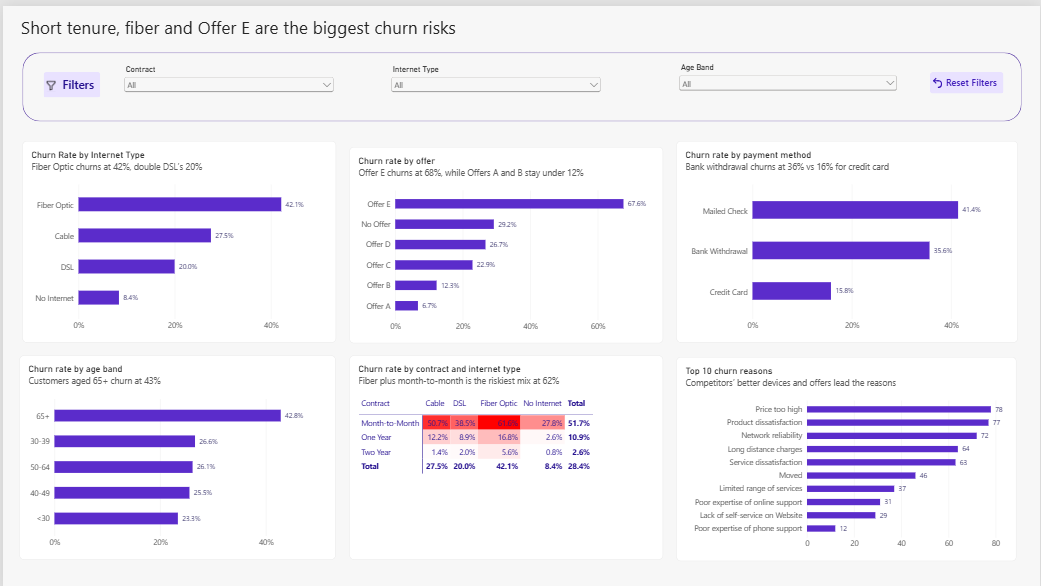

The page's visual inventory and layout, read from the dashboard file:
{"tool":"powerbi","page":{"name":"Page 2","canvas":[1920,1080],"ordinal":1},"visuals":[{"type":"shape","box":[36.5,85.1,1850.1,127.6],"z":0},{"type":"slicer","fields":{"Values":["churn.Contract"]},"box":[218.7,109.4,398,88.1],"z":1000},{"type":"slicer","fields":{"Values":["churn.Internet Type"]},"box":[713.9,109.4,398,69.9],"z":2000},{"type":"slicer","fields":{"Values":["churn.Age Band"]},"box":[1248.6,106.3,413.2,72.9],"z":3000},{"type":"actionButton","box":[1716,123,136,40],"z":4000},{"type":"actionButton","box":[75,122.5,105.3,47.4],"z":5000},{"type":"textbox","box":[32.5,17.5,1037.5,67.5],"z":6000},{"type":"clusteredBarChart","title":"Churn Rate by Internet Type","fields":{"Category":["churn.Internet Type"],"Y":["churn.Churn Rate %"]},"box":[36.6,251.3,580.7,373.3],"z":7000},{"type":"clusteredBarChart","title":"Churn rate by offer","fields":{"Category":["churn.Offer"],"Y":["churn.Churn Rate %"]},"box":[641.7,261.1,580.7,363.5],"z":8000},{"type":"clusteredBarChart","title":"Churn rate by payment method","fields":{"Category":["churn.Payment Method"],"Y":["churn.Churn Rate %"]},"box":[1246.7,251.3,631.9,373.3],"z":9000},{"type":"clusteredBarChart","title":"Churn rate by age band","fields":{"Category":["churn.Age Band"],"Y":["churn.Churn Rate %"]},"box":[31.7,646.6,585.6,378.2],"z":10000},{"type":"pivotTable","title":"Churn rate by contract and internet type","fields":{"Columns":["churn.Internet Type"],"Rows":["churn.Contract"],"Values":["churn.Churn Rate %"]},"box":[641.7,646.6,580.7,378.2],"z":11000},{"type":"clusteredBarChart","title":"Top 10 churn reasons","fields":{"Category":["churn.Churn Reason"],"Y":["churn.Churned Customers"]},"box":[1246.7,649,629.5,378.2],"z":12000}]}

Visuals, with their boxes in screenshot pixels (x1, y1, x2, y2), scaled from the page's 1920x1080 canvas onto the 1041x586 screenshot:
shape: [20, 46, 1023, 115]
slicer - churn.Contract: [119, 59, 334, 107]
slicer - churn.Internet Type: [387, 59, 603, 97]
slicer - churn.Age Band: [677, 58, 901, 97]
actionButton: [930, 67, 1004, 88]
actionButton: [41, 66, 98, 92]
textbox: [18, 9, 580, 46]
"Churn Rate by Internet Type" clusteredBarChart: [20, 136, 335, 339]
"Churn rate by offer" clusteredBarChart: [348, 142, 663, 339]
"Churn rate by payment method" clusteredBarChart: [676, 136, 1019, 339]
"Churn rate by age band" clusteredBarChart: [17, 351, 335, 556]
"Churn rate by contract and internet type" pivotTable: [348, 351, 663, 556]
"Top 10 churn reasons" clusteredBarChart: [676, 352, 1017, 557]
